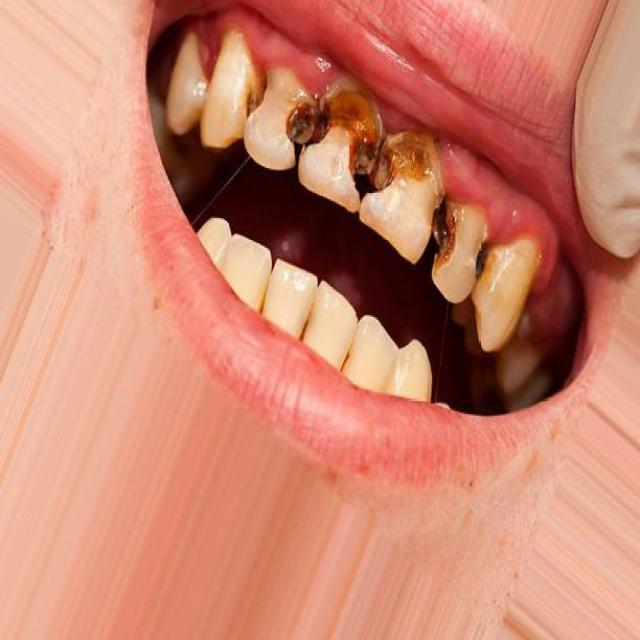caries: (317, 75, 395, 212), (392, 123, 448, 221), (231, 49, 275, 135), (421, 197, 463, 277), (274, 78, 317, 156), (462, 223, 504, 292)
